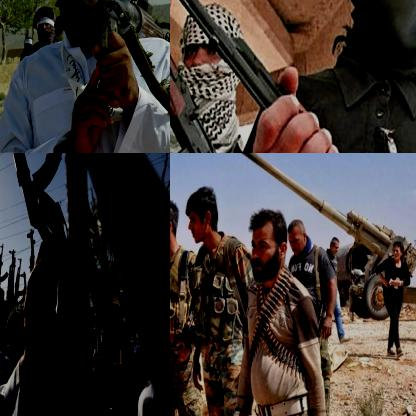rifle: (170, 0, 415, 152), (170, 0, 231, 152), (59, 0, 169, 58), (1, 153, 66, 235), (0, 247, 23, 316)
